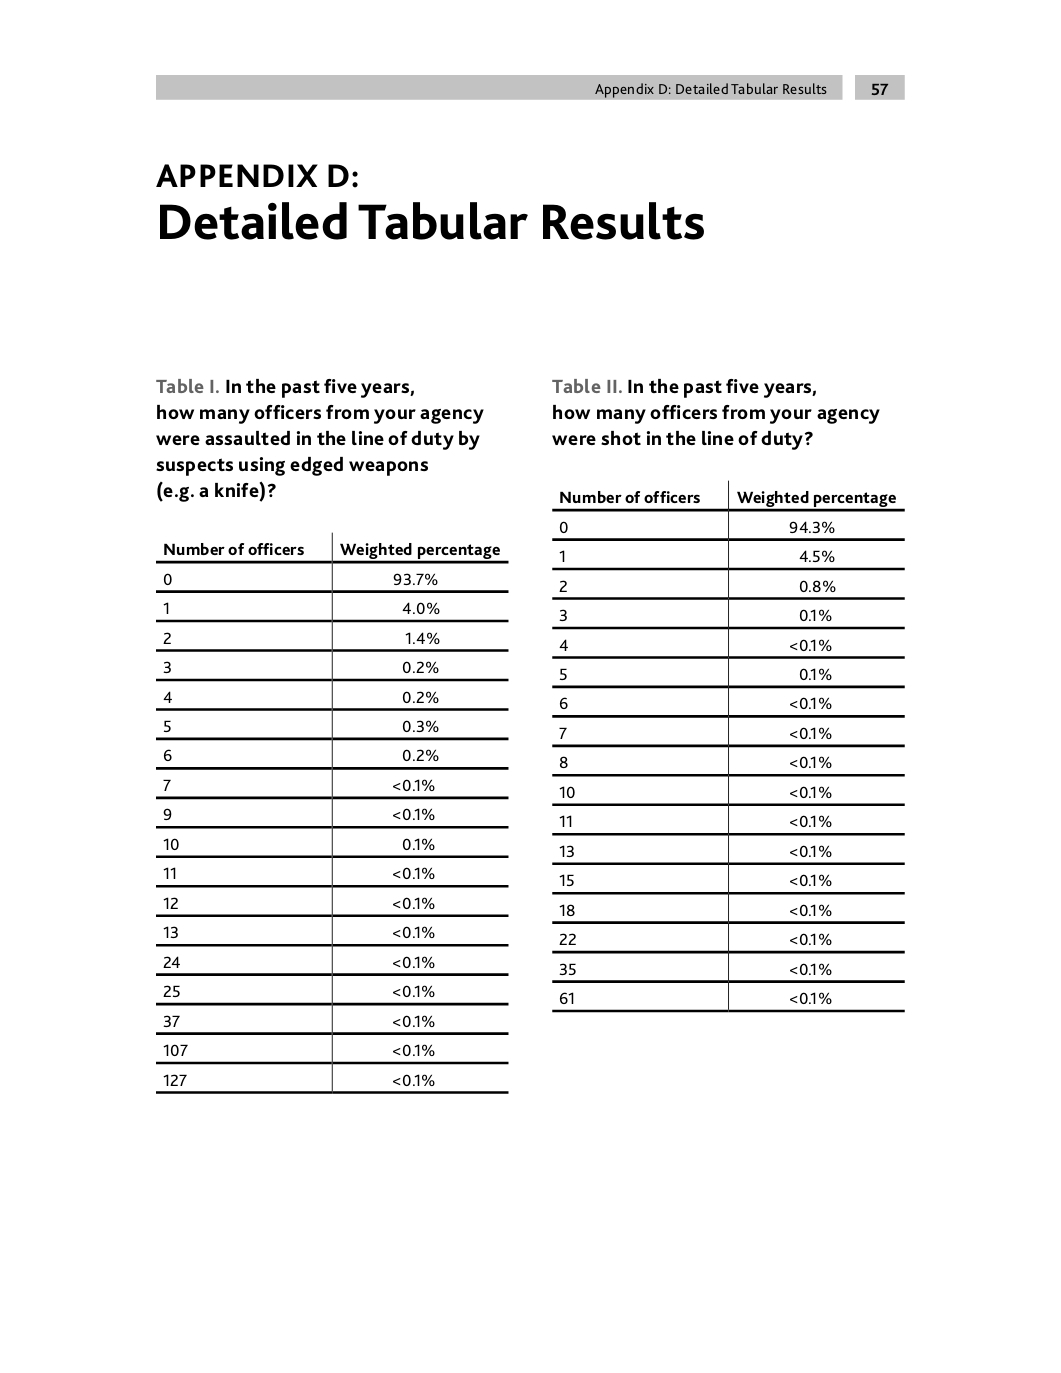Table: (156, 530, 508, 1094), (552, 479, 904, 1013)
